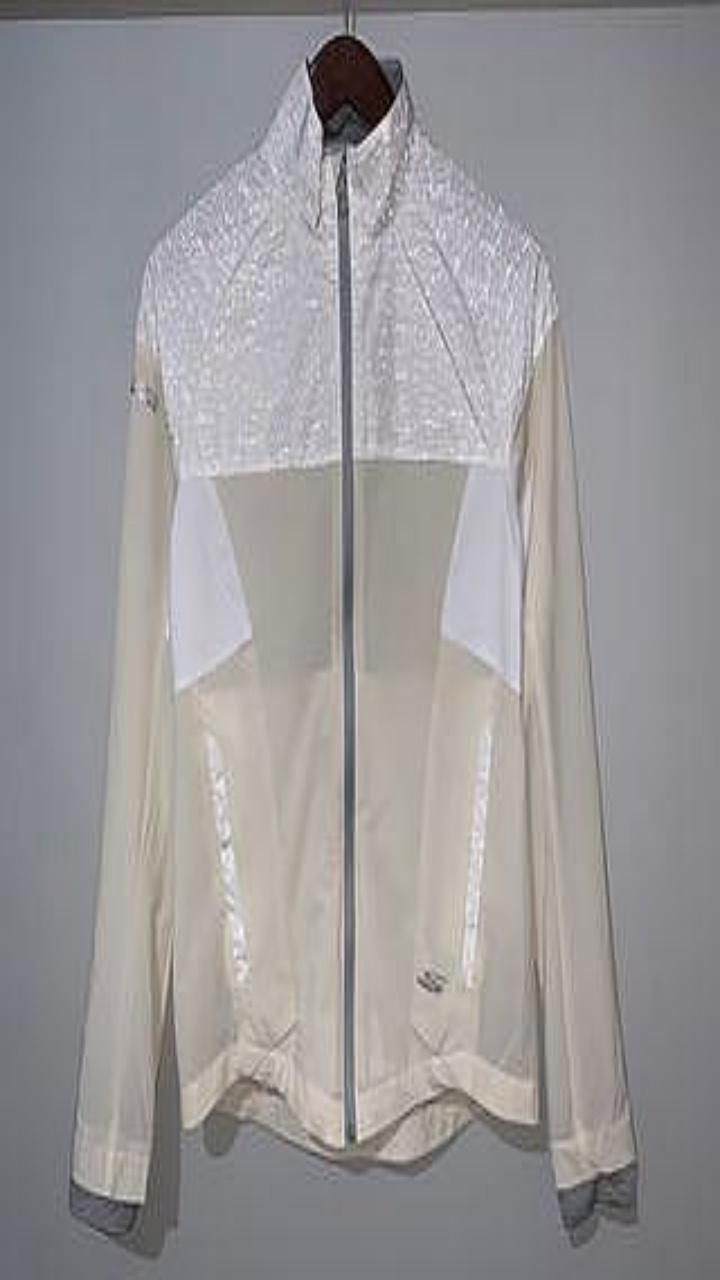Sports_Jacket: (69, 57, 637, 1233)
